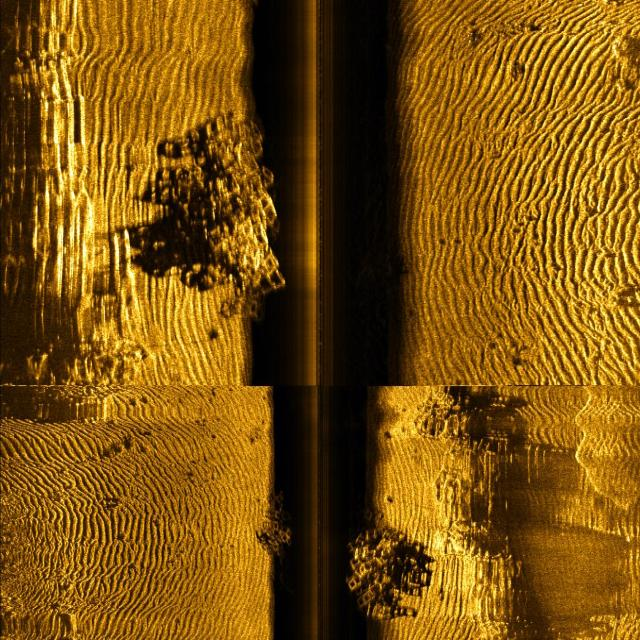artificial reef: (170, 111, 296, 323), (346, 477, 418, 626), (260, 477, 312, 582)
